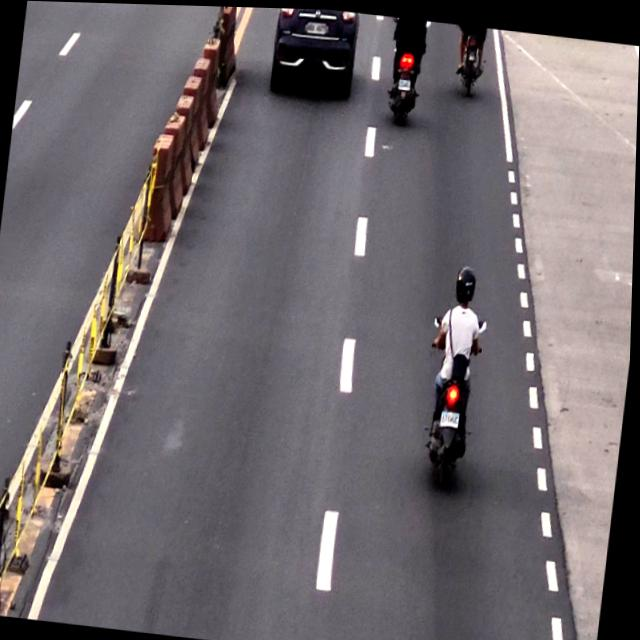Car: (264, 6, 359, 99)
License-Plate: (440, 405, 465, 427), (304, 17, 328, 37)
Motorcycle: (418, 257, 489, 487)
